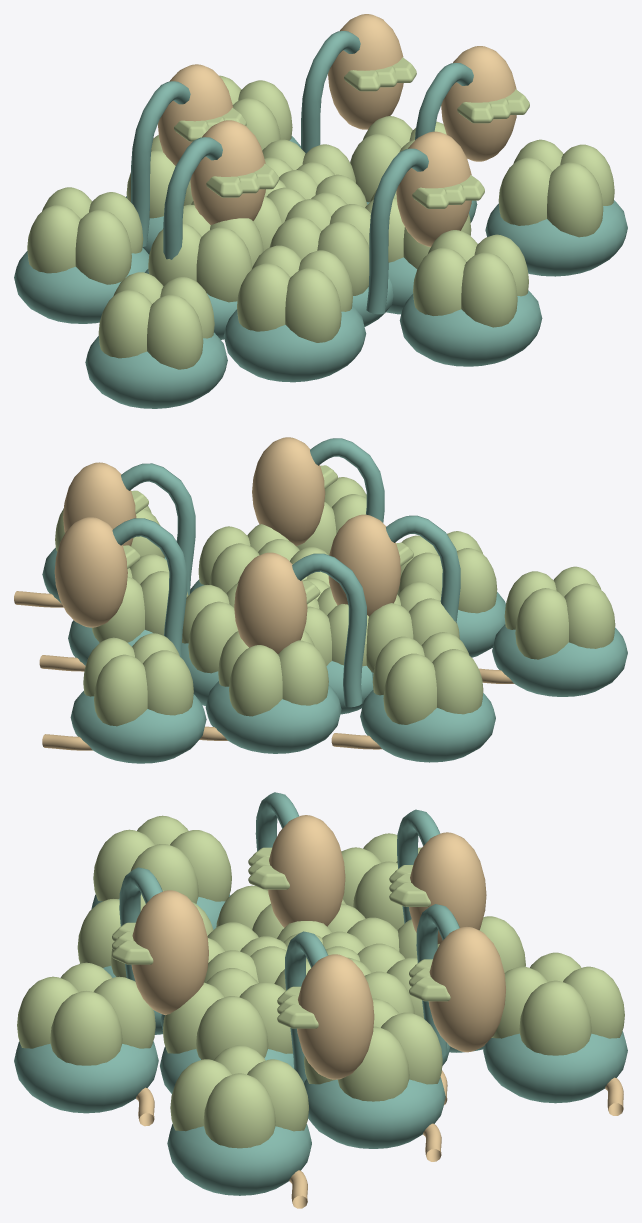
The model's file is bio_oxygen_reef_23_near.glb.
3 views of the same model, one above another, from view 1: azimuth 30°, elevation 25°; view 2: azimuth 150°, elevation 25°; view 3: azimuth 270°, elevation 25° (orthographic). The views are drawn at different scales.
Parts seen in each view (by area): view 1: Lobed gas sac.028, Lobed gas sac.036, Lobed gas sac.048, Lobed gas sac.052, Lobed gas sac.040, Lobed gas sac.016, Photosynthetic cushion.010, Photosynthetic cushion.012, Photosynthetic cushion.007, Photosynthetic cushion.013, Lobed gas sac.008, Pendant spore capsule.003 (+25 smaller); view 2: Lobed gas sac.044, Lobed gas sac.048, Lobed gas sac.036, Lobed gas sac.024, Pendant spore capsule.003, Pendant spore capsule.002, Pendant spore capsule.001, Photosynthetic cushion.012, Photosynthetic cushion.006, Photosynthetic cushion.009, Photosynthetic cushion.011, Pendant spore capsule.004 (+23 smaller); view 3: Lobed gas sac.052, Lobed gas sac.040, Lobed gas sac.044, Lobed gas sac.048, Lobed gas sac.020, Pendant spore capsule, Pendant spore capsule.003, Pendant spore capsule.002, Photosynthetic cushion.013, Photosynthetic cushion.010, Photosynthetic cushion.011, Photosynthetic cushion.008 (+22 smaller).
Boxes of the visible parts, x1,y1,x2,y2 form: Lobed gas sac.028: [237, 245, 352, 342]; Lobed gas sac.036: [27, 187, 143, 284]; Lobed gas sac.048: [98, 272, 214, 369]; Lobed gas sac.052: [498, 139, 614, 237]; Lobed gas sac.040: [413, 230, 528, 327]; Lobed gas sac.016: [148, 204, 263, 302]; Photosynthetic cushion.010: [399, 290, 542, 366]; Photosynthetic cushion.012: [85, 332, 227, 408]; Photosynthetic cushion.007: [223, 306, 366, 382]; Photosynthetic cushion.013: [485, 200, 627, 276]; Lobed gas sac.008: [269, 199, 370, 295]; Pendant spore capsule.003: [328, 14, 403, 129]; Lobed gas sac.044: [83, 633, 193, 726]; Lobed gas sac.048: [504, 566, 615, 659]; Lobed gas sac.036: [372, 632, 483, 724]; Lobed gas sac.024: [218, 630, 328, 716]; Pendant spore capsule.003: [54, 517, 127, 627]; Pendant spore capsule.002: [252, 437, 325, 546]; Pendant spore capsule.001: [234, 552, 307, 653]; Photosynthetic cushion.012: [492, 624, 627, 696]; Photosynthetic cushion.006: [205, 681, 341, 753]; Photosynthetic cushion.009: [360, 689, 495, 762]; Photosynthetic cushion.011: [70, 691, 206, 763]; Pendant spore capsule.004: [328, 514, 401, 615]; Lobed gas sac.052: [170, 1045, 308, 1148]; Lobed gas sac.040: [17, 962, 155, 1065]; Lobed gas sac.044: [491, 952, 624, 1055]; Lobed gas sac.048: [93, 815, 231, 903]; Lobed gas sac.020: [162, 968, 292, 1060]; Pendant spore capsule: [297, 954, 374, 1079]; Pendant spore capsule.003: [428, 927, 505, 1052]; Pendant spore capsule.002: [131, 890, 208, 1014]; Photosynthetic cushion.013: [167, 1124, 311, 1195]; Photosynthetic cushion.010: [14, 1041, 158, 1113]; Photosynthetic cushion.011: [483, 1031, 627, 1103]; Photosynthetic cushion.008: [304, 1077, 445, 1148].
Bounding box in the file's own units: 2.35 × 0.7745 × 2.03.
